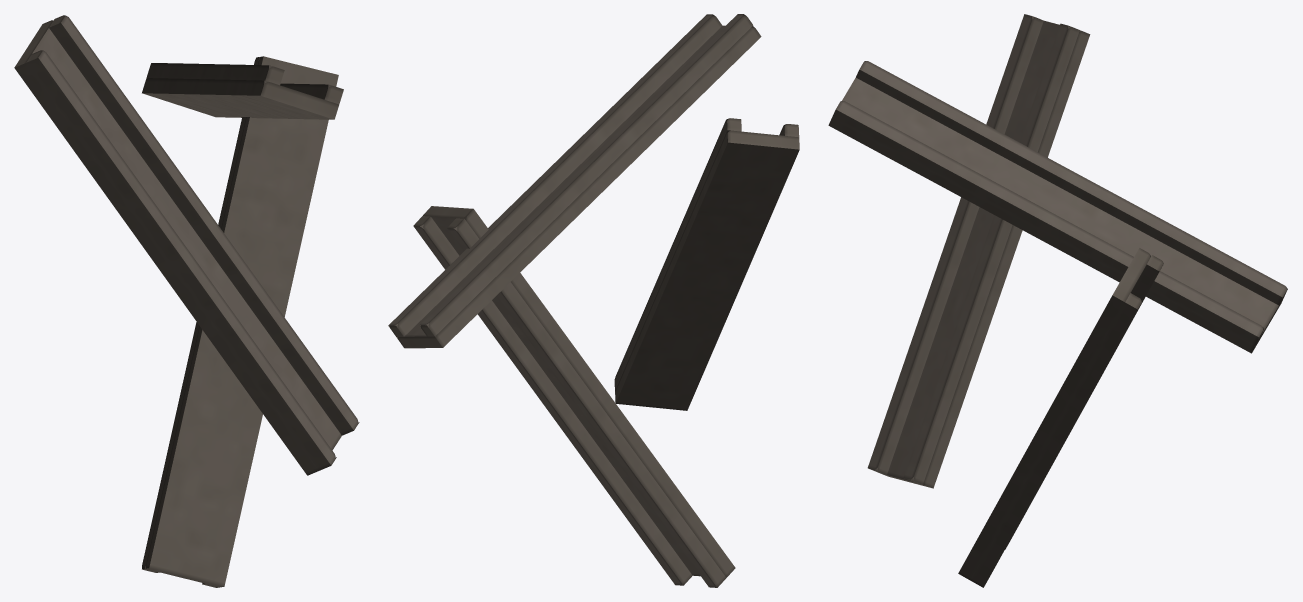
Rendered from hedgehog.obj.
3 views of the same model, side by side, from view 1: azimuth 30°, elevation 25°; view 2: azimuth 150°, elevation 25°; view 3: azimuth 270°, elevation 25° (orthographic). The views are drawn at different scales.
Visible parts, largest first — view 1: nE, nx, nz, ny, nB, nA, nD, nC; view 2: nx, nA, nC, nE, nB, nD, nF, ny; view 3: nB, nx, nA, nC, nz, ny, nE, nF, nD.
Part boxes in pixels (x1,y1,x2,y2): nE: (145,56,338,587); nx: (14,20,341,475); nz: (26,50,336,470); ny: (49,15,359,435); nB: (142,78,338,119); nA: (146,63,284,85); nD: (142,57,259,572); nC: (280,83,343,104); nx: (615,130,799,410); nA: (419,14,753,336); nC: (388,14,722,336); nE: (423,206,735,577); nB: (396,25,761,348); nD: (447,218,726,587); nF: (413,216,692,585); ny: (614,118,741,391); nB: (828,78,1283,353); nx: (880,20,1090,488); nA: (856,61,1287,305); nC: (832,101,1263,345); nz: (867,14,1043,474); ny: (903,23,1079,484); nE: (958,248,1150,580); nF: (971,293,1141,587); nD: (1005,255,1163,549).
Bounding box in the file's own units: 1.66 × 2.47 × 1.97.
1 material, 1 textured.
